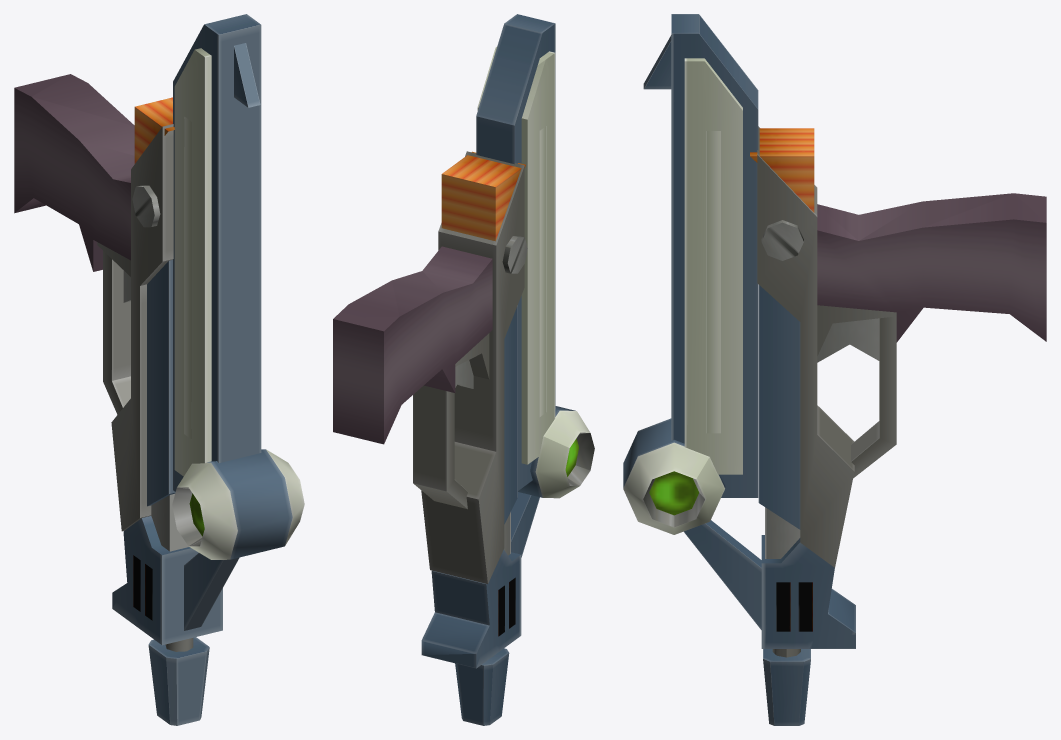
Rendered from Axl-BoundBlaster.obj.
3 renders of one model, left to right at view 1: azimuth 30°, elevation 25°; view 2: azimuth 150°, elevation 25°; view 3: azimuth 270°, elevation 25°, orthographic. The views are drawn at different scales.
Visible parts, largest first — view 1: Axl-BoundBlaster; view 2: Axl-BoundBlaster; view 3: Axl-BoundBlaster.
Part boxes in pixels (x1=…): Axl-BoundBlaster: x1=14, y1=14, x2=304, y2=725; Axl-BoundBlaster: x1=333, y1=14, x2=594, y2=725; Axl-BoundBlaster: x1=623, y1=14, x2=1046, y2=725.
Size of the model in its own units: 0.8984 by 6.28 by 3.47.
1 material, 1 textured.
